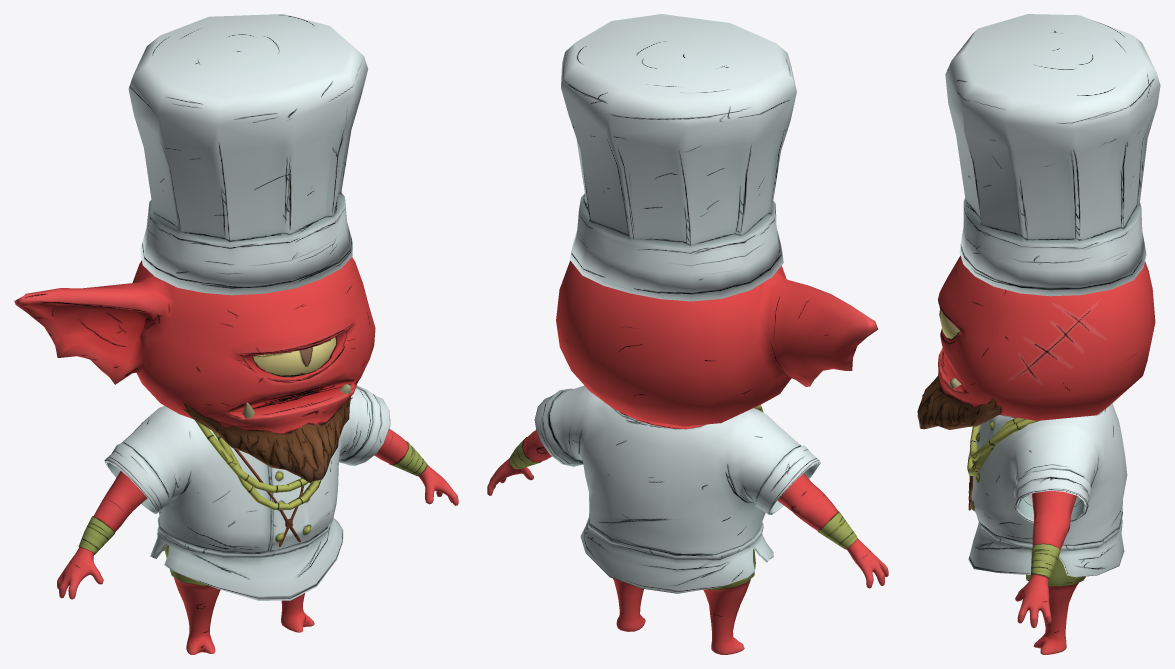
The model's file is LegendaryChef.fbx.
3 renders of one model, left to right at view 1: azimuth 30°, elevation 25°; view 2: azimuth 150°, elevation 25°; view 3: azimuth 270°, elevation 25°, orthographic. The views are drawn at different scales.
Parts seen in each view (by area): view 1: fry_king_LOW; view 2: fry_king_LOW; view 3: fry_king_LOW.
Boxes of the visible parts, x1,y1,x2,y2 form: fry_king_LOW: (14,14,458,654); fry_king_LOW: (487,14,888,654); fry_king_LOW: (917,14,1160,654).
Size of the model in its own units: 131 by 177 by 68.11.
